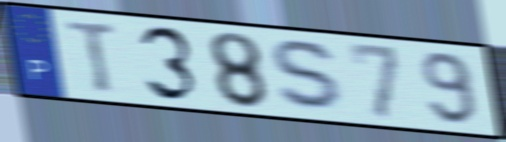3: (132, 23, 199, 104)
7: (346, 40, 402, 123)
8: (207, 29, 269, 111)
9: (418, 50, 482, 128)
S: (267, 37, 351, 115)
T: (63, 18, 121, 95)
